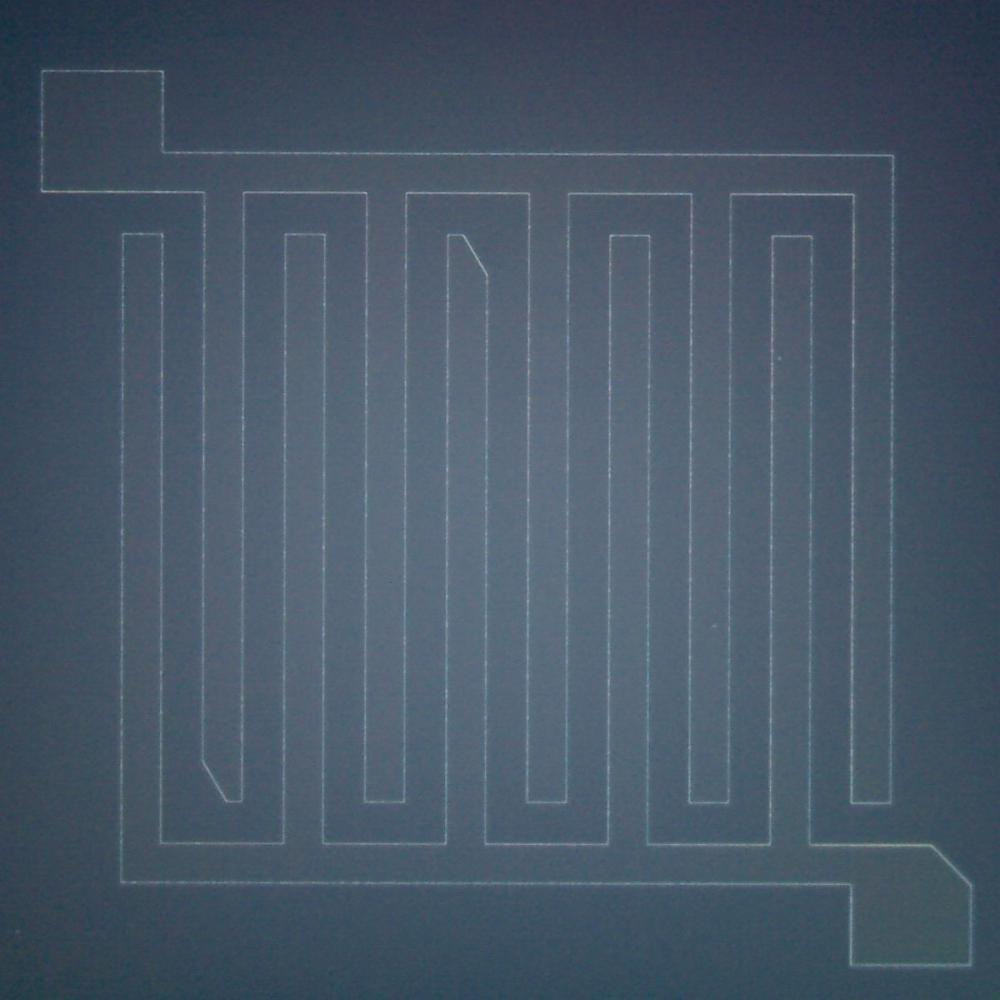edge circuit: (909, 833, 983, 904), (190, 750, 254, 813), (439, 224, 497, 286)
